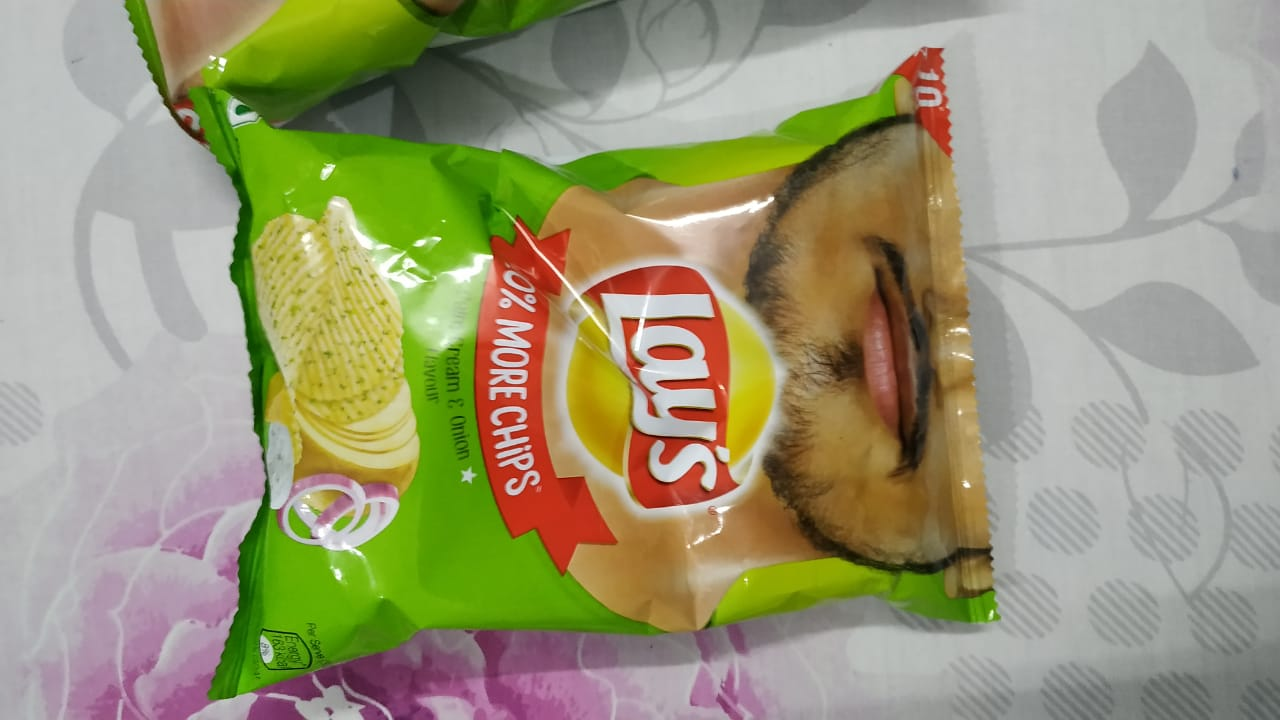lays chips: (180, 84, 1098, 675)
